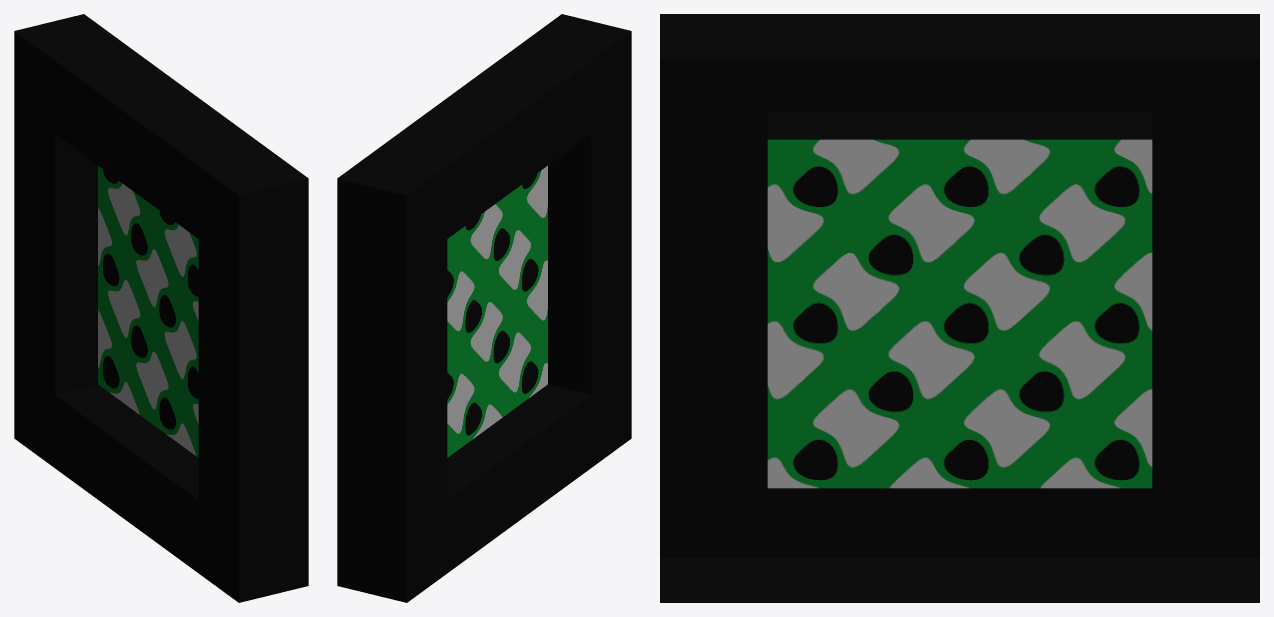
Rendered from Picture.fbx.
3 renders of one model, left to right at view 1: azimuth 30°, elevation 25°; view 2: azimuth 150°, elevation 25°; view 3: azimuth 270°, elevation 25°, orthographic. The views are drawn at different scales.
Parts seen in each view (by area): view 1: Picture; view 2: Picture; view 3: Picture.
Boxes of the visible parts, box(x1,y1,x2,y2) form: Picture: box(14, 14, 308, 602); Picture: box(337, 14, 631, 602); Picture: box(660, 14, 1259, 602).
Size of the model in its own units: 0.0897 by 0.5 by 0.5.
